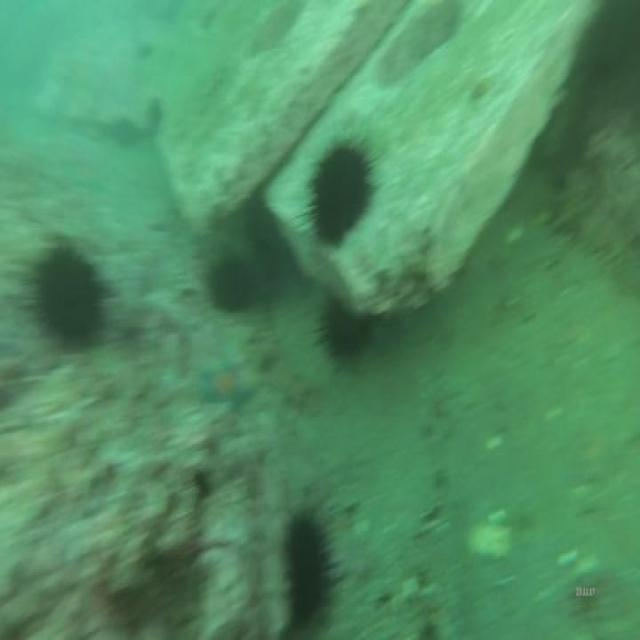echinus: (29, 237, 112, 356), (279, 496, 340, 640), (302, 134, 379, 248), (312, 288, 377, 372), (203, 246, 260, 313)
starfish: (187, 351, 265, 419)
